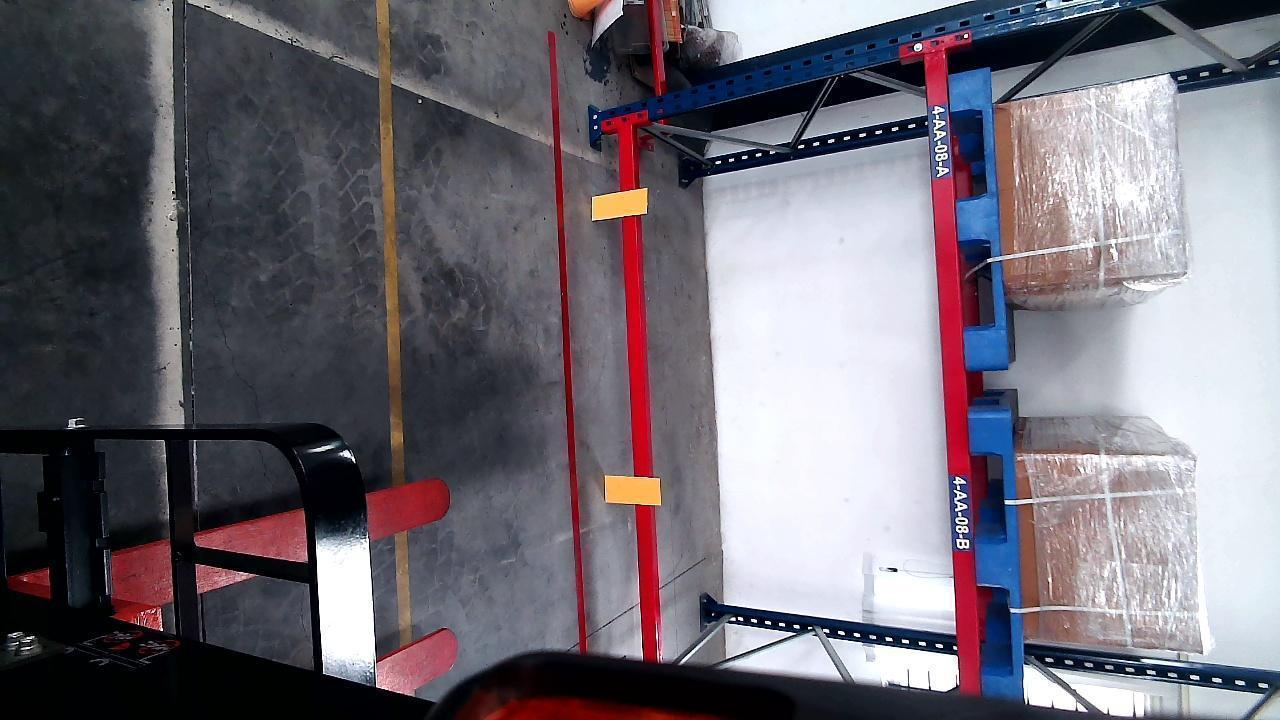red_line: (545, 29, 593, 651)
yellow_line: (377, 6, 417, 648)
